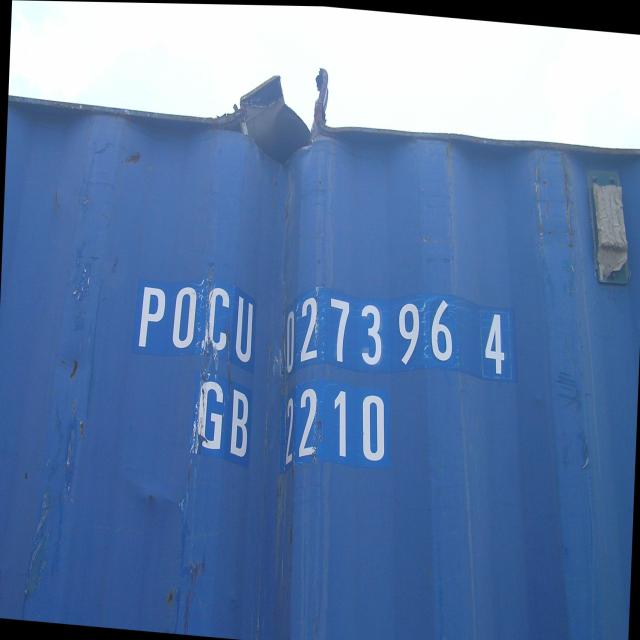hole: (209, 50, 353, 173)
